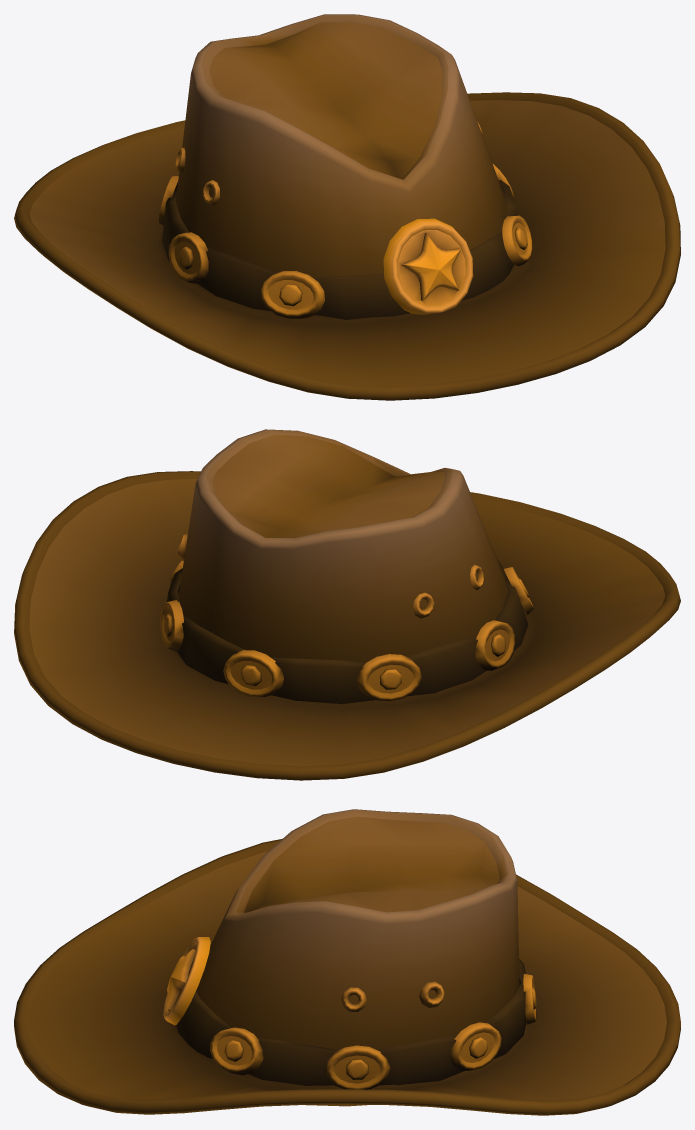
The model's file is Cap_Cowboy_Hat.gltf.
The picture shows the model from 3 angles, top to bottom: view 1: azimuth 30°, elevation 25°; view 2: azimuth 150°, elevation 25°; view 3: azimuth 270°, elevation 25°; orthographic projection. The views are drawn at different scales.
Visible parts, largest first — view 1: Cap_Cowboy_Hat; view 2: Cap_Cowboy_Hat; view 3: Cap_Cowboy_Hat.
Boxes of the visible parts, x1,y1,x2,y2 form: Cap_Cowboy_Hat: [14, 14, 680, 400]; Cap_Cowboy_Hat: [14, 429, 680, 780]; Cap_Cowboy_Hat: [14, 809, 680, 1115].
Bounding box in the file's own units: 1.45 × 0.4399 × 1.53.
Materials: 2 (2 with a texture image).
